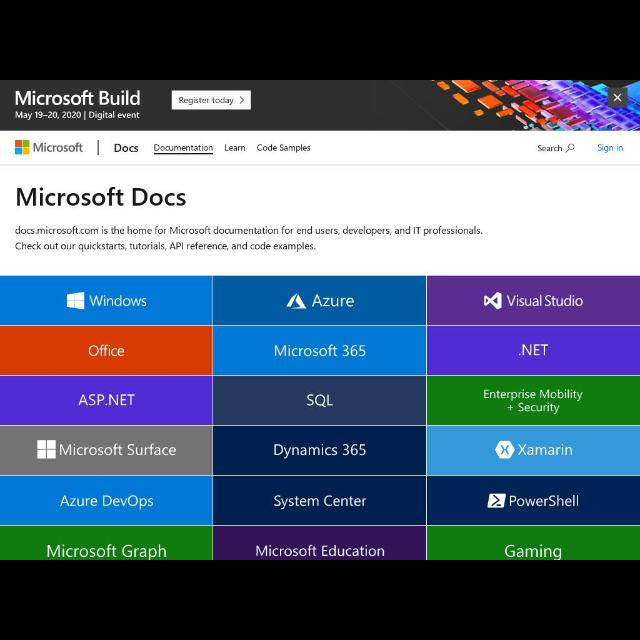icon: (35, 440, 57, 460), (64, 292, 86, 310), (286, 292, 306, 310), (496, 441, 516, 459), (482, 292, 503, 308), (486, 494, 506, 508), (566, 142, 576, 154), (613, 93, 623, 103), (238, 96, 245, 106)
image: (16, 140, 30, 154)
text: (17, 227, 486, 253), (17, 187, 187, 210), (482, 390, 584, 412), (15, 90, 142, 106), (15, 108, 140, 122), (273, 492, 367, 510), (59, 444, 178, 458), (255, 545, 385, 557), (59, 495, 154, 511), (274, 443, 366, 459), (45, 544, 167, 556), (274, 344, 366, 358), (506, 294, 582, 308), (508, 495, 580, 507), (503, 544, 562, 558), (90, 294, 146, 308), (78, 394, 134, 406), (518, 444, 572, 456), (34, 142, 84, 154), (256, 142, 312, 152), (314, 294, 354, 308), (87, 344, 125, 358), (153, 144, 214, 152), (516, 344, 550, 358), (178, 98, 234, 106), (305, 392, 333, 408), (113, 143, 139, 155), (223, 144, 247, 154), (597, 144, 623, 152), (538, 144, 560, 152)
textbutton: (427, 275, 639, 325), (214, 326, 426, 376), (214, 374, 426, 424), (0, 276, 212, 324), (215, 276, 427, 324), (0, 326, 212, 374), (427, 326, 639, 374), (1, 376, 213, 424), (0, 426, 212, 474), (214, 426, 426, 474), (428, 426, 640, 474), (214, 476, 426, 524), (1, 476, 211, 524), (427, 377, 639, 423), (428, 477, 640, 523), (0, 526, 212, 558), (428, 526, 640, 558), (213, 527, 424, 559), (172, 91, 250, 111)
toolbar: (1, 132, 639, 164)
